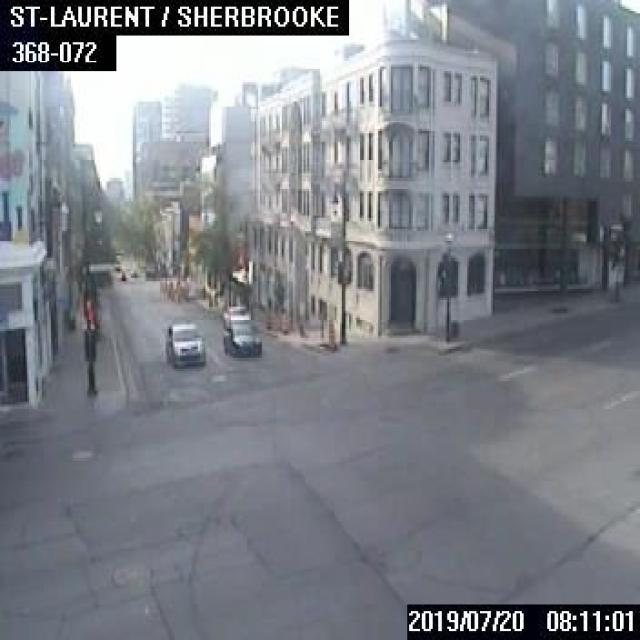construction: (324, 317, 335, 348)
vehicle: (164, 323, 204, 367), (220, 320, 260, 356), (220, 302, 250, 329), (279, 312, 287, 334)
